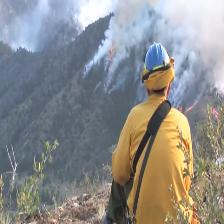smoke: (76, 1, 224, 97), (145, 0, 224, 102)
